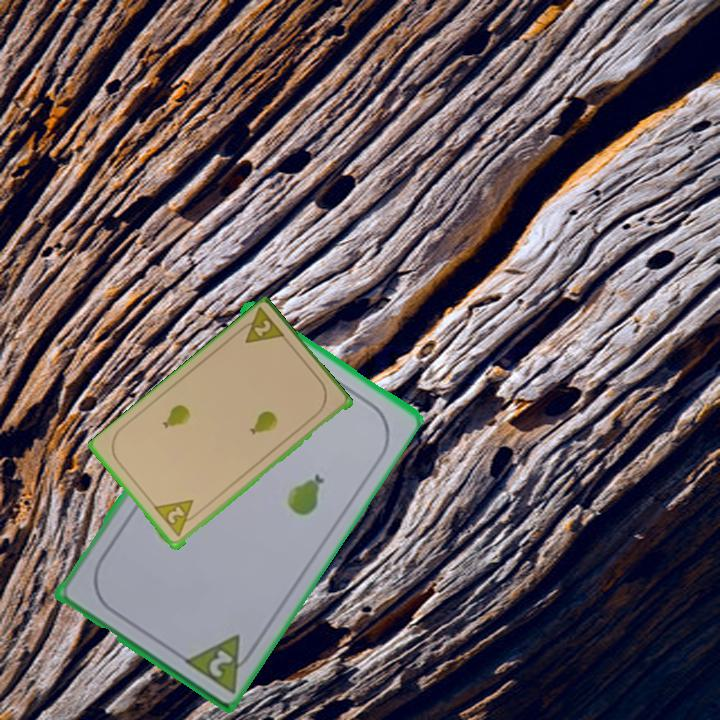2p: (178, 630, 260, 695), (233, 305, 289, 347), (151, 496, 203, 540)
